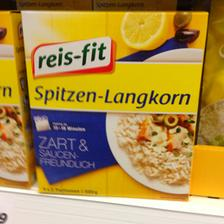Reis: (21, 8, 207, 202)
